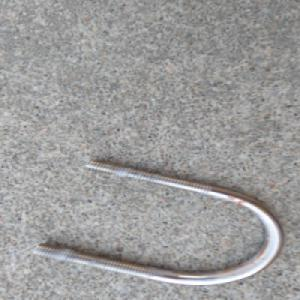ClampPart: (30, 158, 287, 287)
